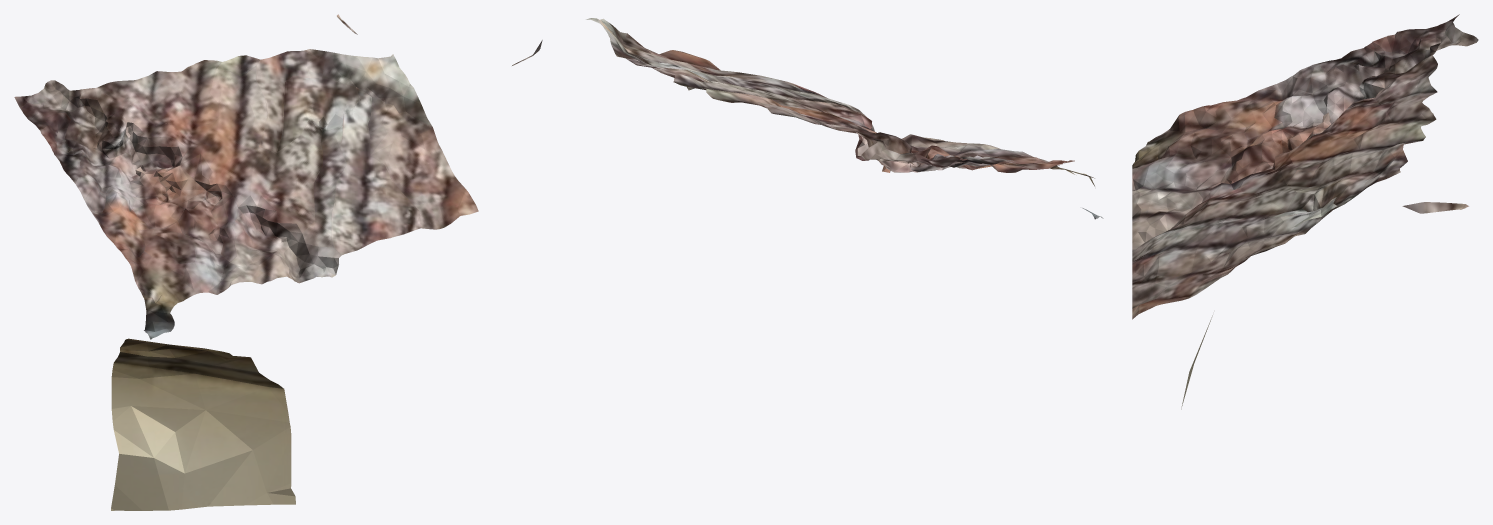
The picture shows the model from 3 angles, left to right: view 1: azimuth 30°, elevation 25°; view 2: azimuth 150°, elevation 25°; view 3: azimuth 270°, elevation 25°; orthographic projection. The views are drawn at different scales.
Bounding box in the file's own units: 1.67 × 1.67 × 1.28.
Materials: 2 (2 with a texture image).
